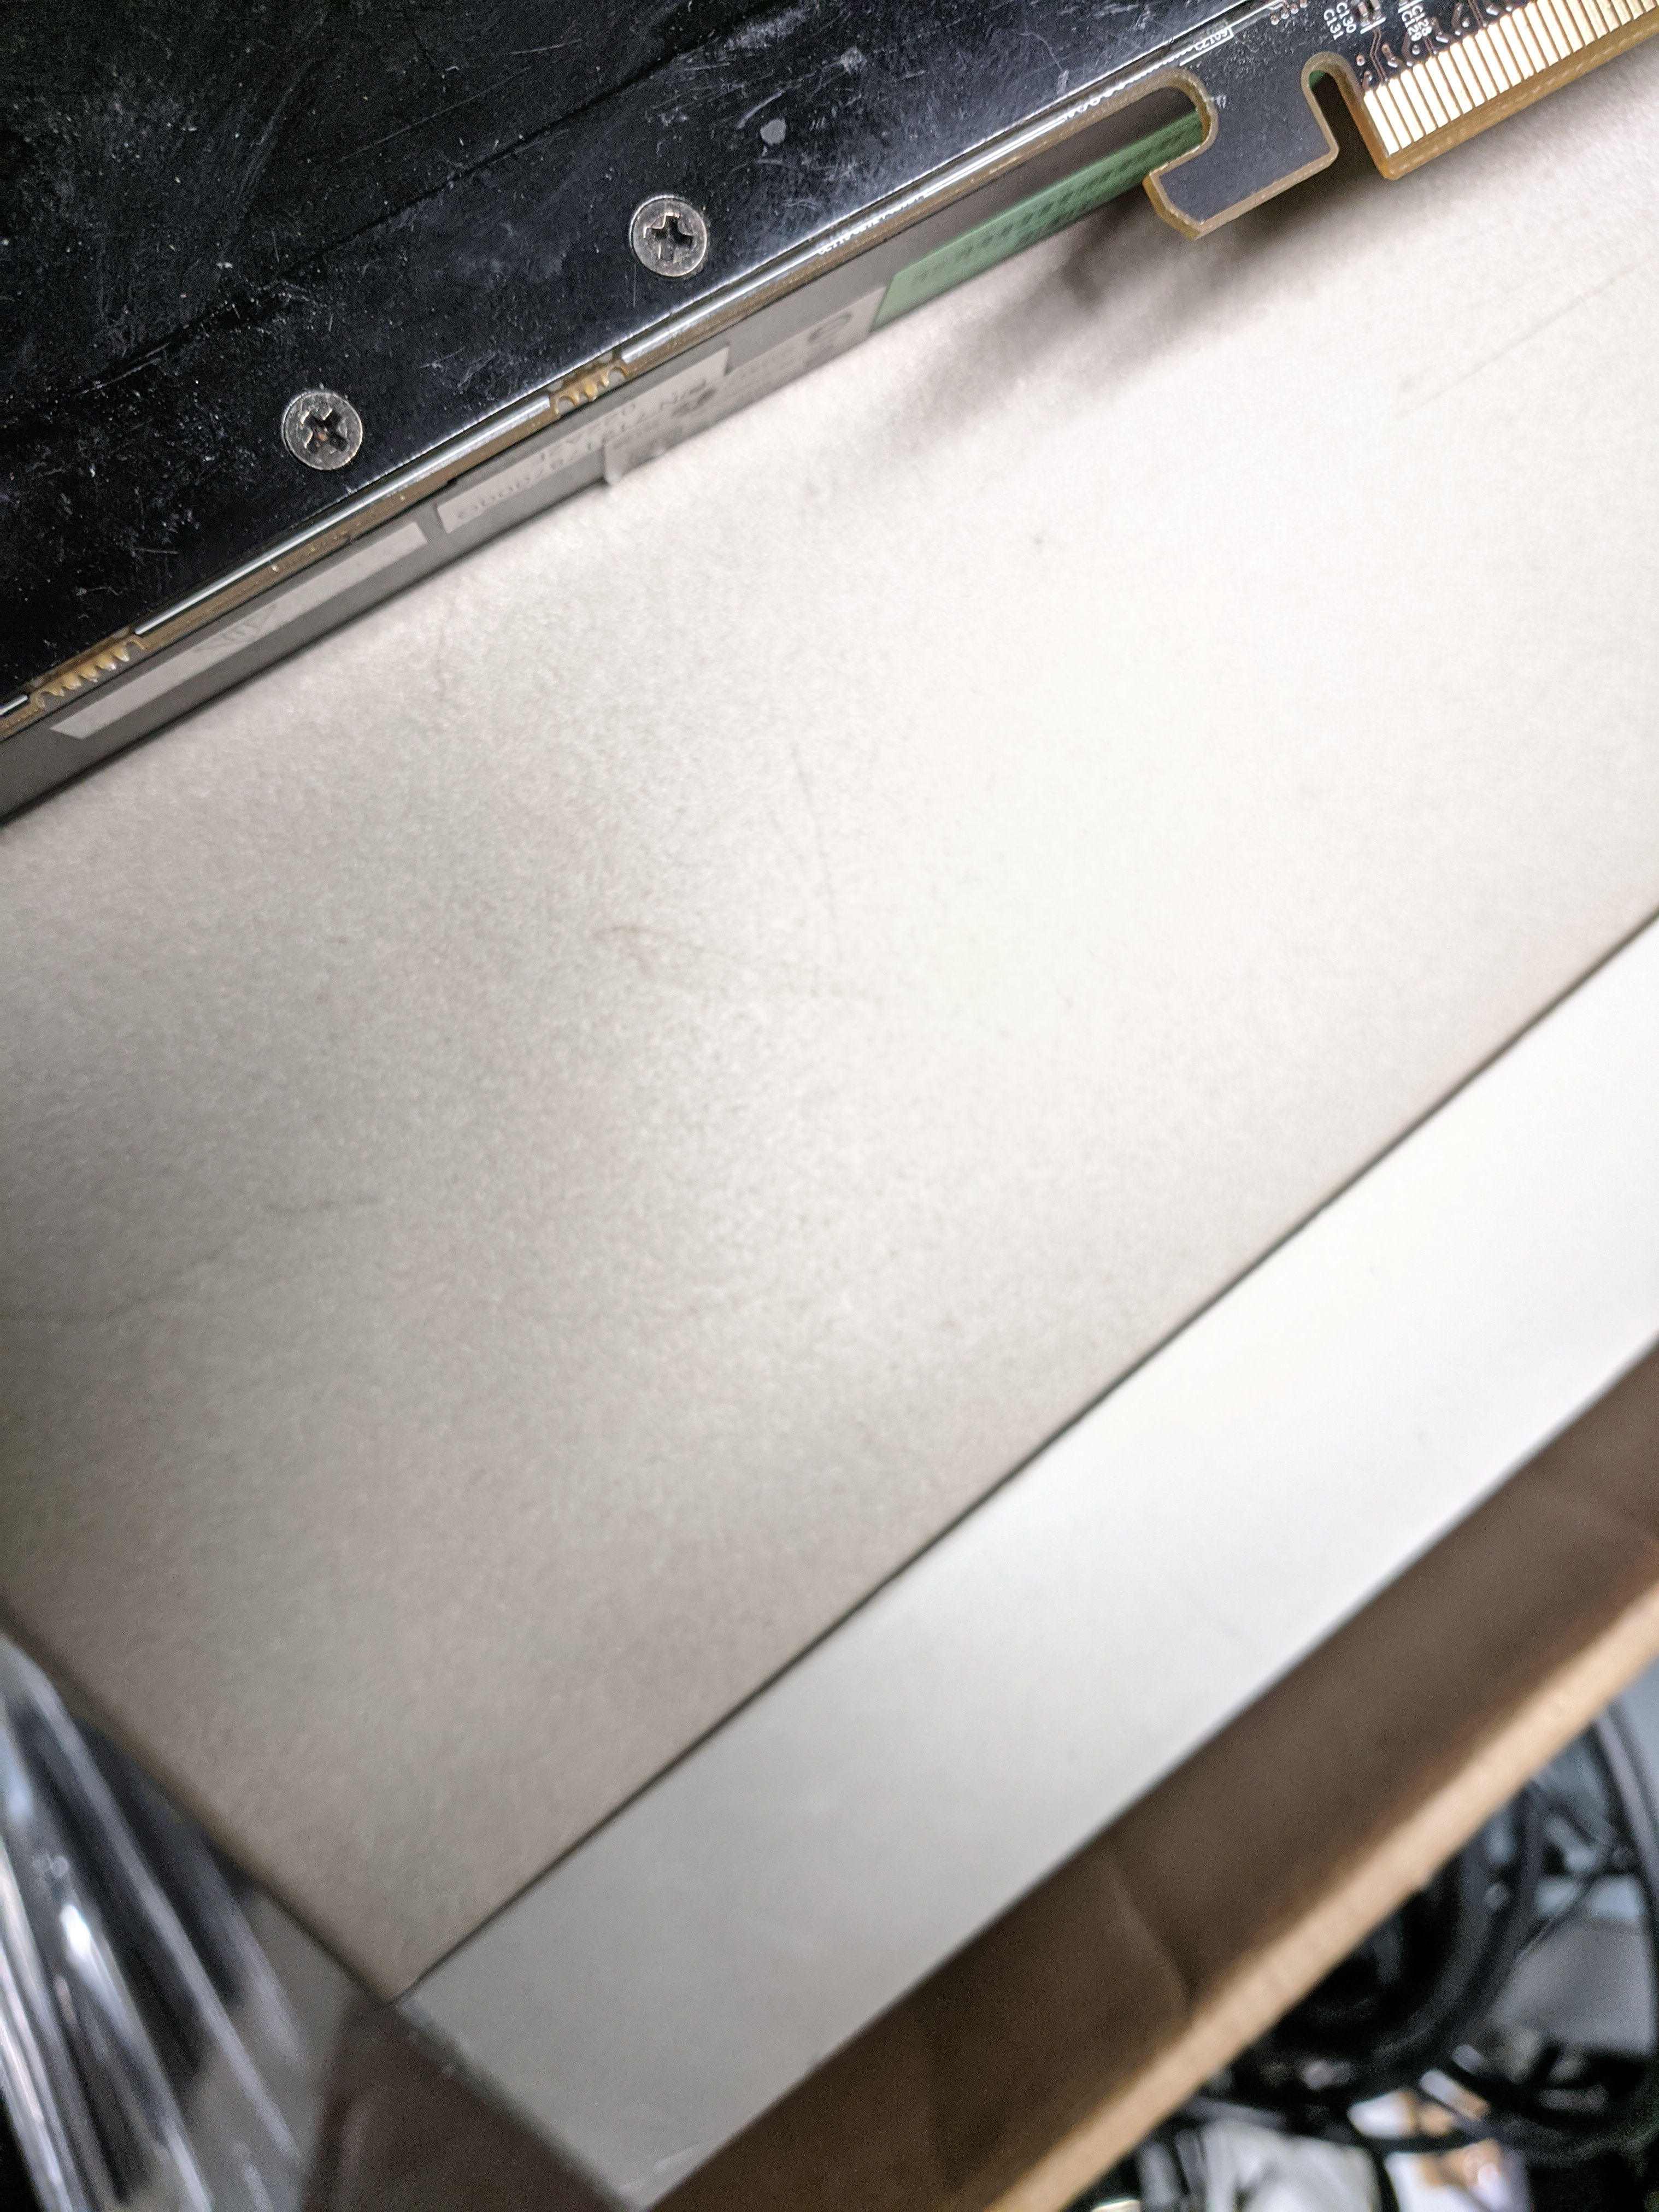cross_recessed_screw: (605, 186, 732, 289), (270, 374, 376, 474)
